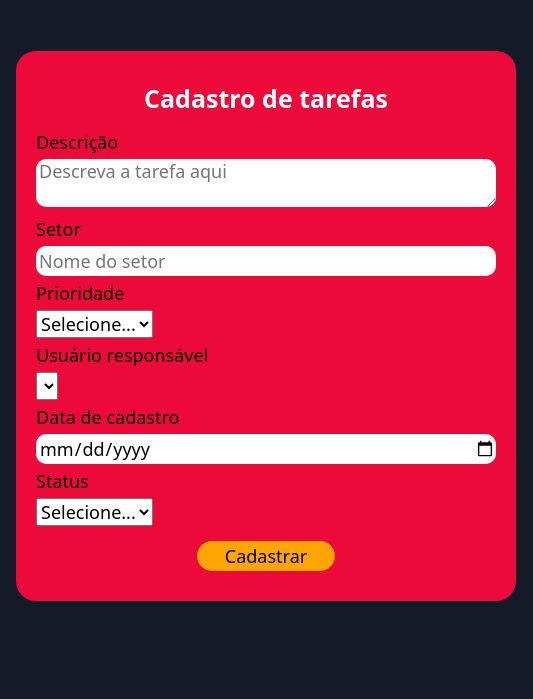
it: Validação de data no futuro › Exibe o erro caso a data esteja no futuro
Type "9999-01-01" into the date field labelled "Data de cadastro". click: (266, 449)
box: [36,434,496,464]
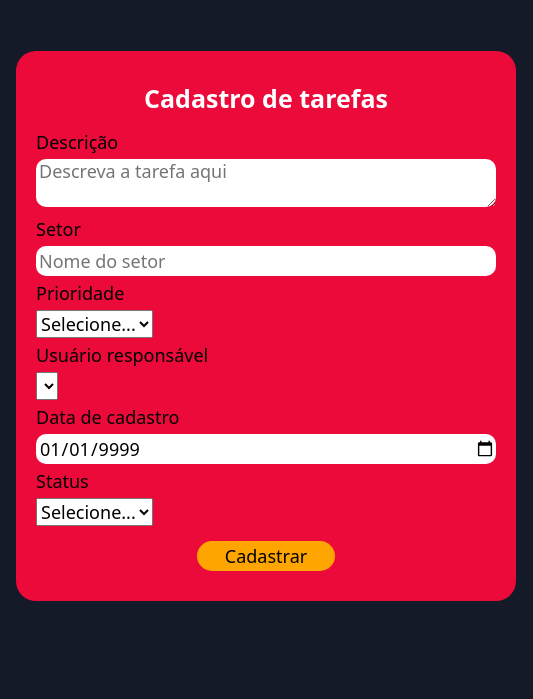
Click the button "Cadastrar". click: (266, 556)
box: [197,541,335,571]
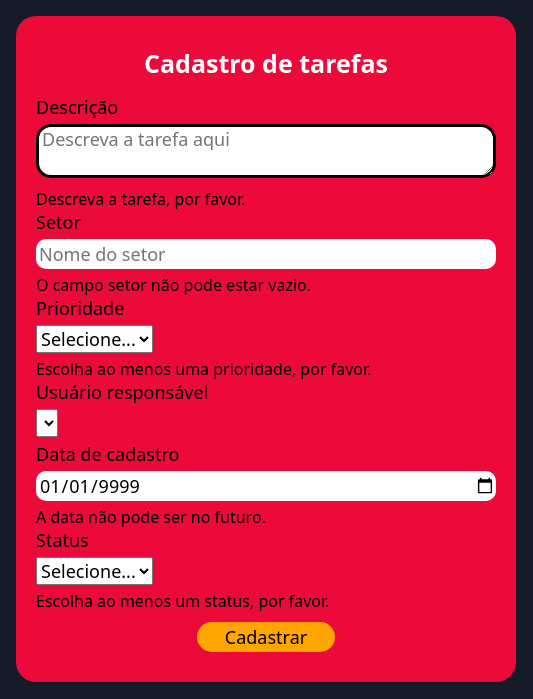
Expected: the text with test id "erroData" reads "A data não pode ser no futuro.", [36,506,266,528]
